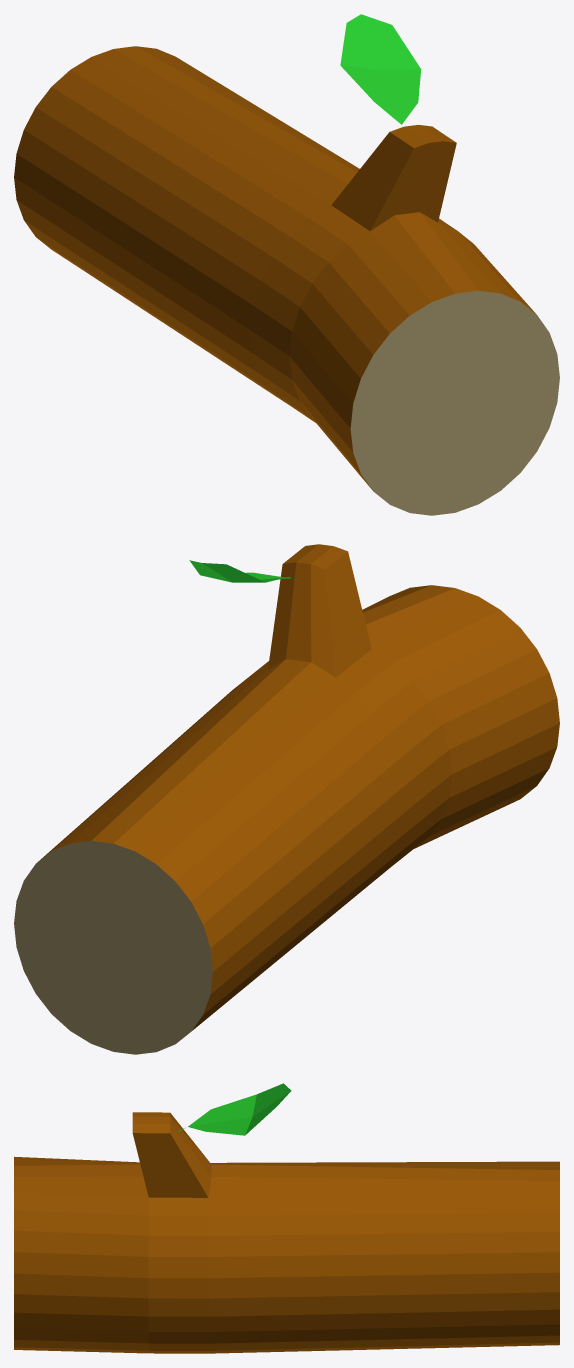
File: wood.fbx
3 views of the same model, one above another, from view 1: azimuth 30°, elevation 25°; view 2: azimuth 150°, elevation 25°; view 3: azimuth 270°, elevation 25° (orthographic). The views are drawn at different scales.
Visible parts, largest first — view 1: Cylinder 柱体; view 2: Cylinder 柱体; view 3: Cylinder 柱体.
Part boxes in pixels (x1=…): Cylinder 柱体: x1=14, y1=14, x2=559, y2=515; Cylinder 柱体: x1=14, y1=544, x2=559, y2=1054; Cylinder 柱体: x1=14, y1=1083, x2=559, y2=1353.
Size of the model in its own units: 203 by 296 by 521.
